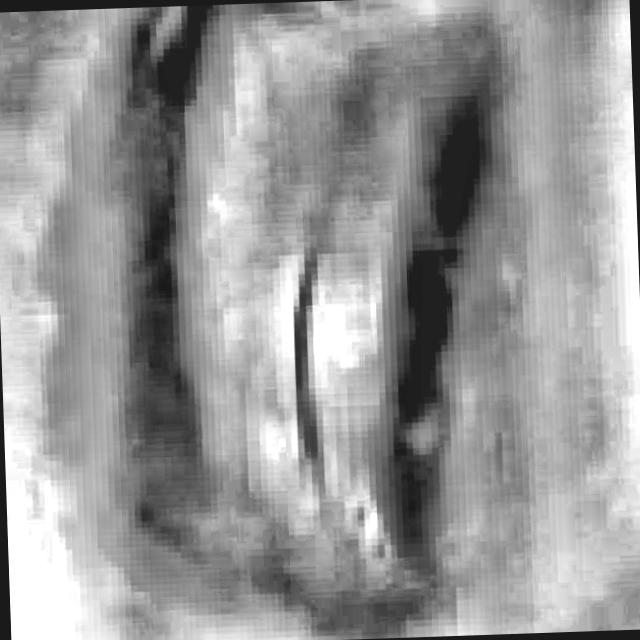closed_eyes: (194, 65, 580, 640)
